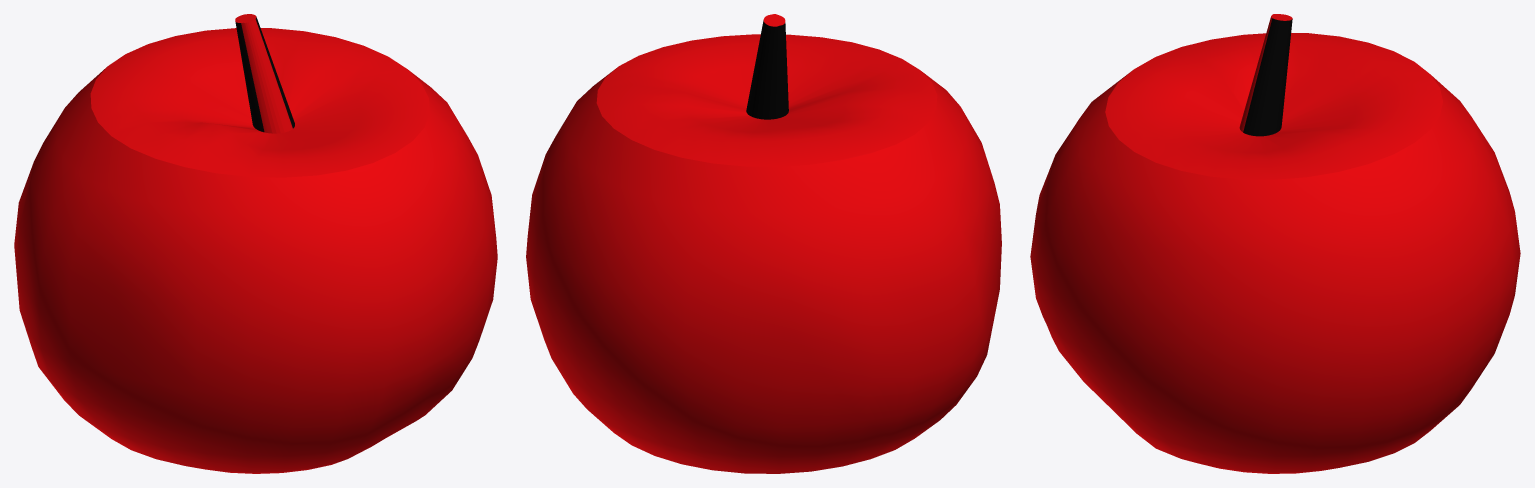
File: Apple.fbx
The picture shows the model from 3 angles, left to right: view 1: azimuth 30°, elevation 25°; view 2: azimuth 150°, elevation 25°; view 3: azimuth 270°, elevation 25°; orthographic projection.
Parts seen in each view (by area): view 1: Apple; view 2: Apple; view 3: Apple.
Part boxes in pixels (left/top/right/bottom): Apple: left=14, top=14, right=497, bottom=473; Apple: left=526, top=14, right=1001, bottom=473; Apple: left=1030, top=14, right=1520, bottom=473.
Size of the model in its own units: 203 by 188 by 206.
